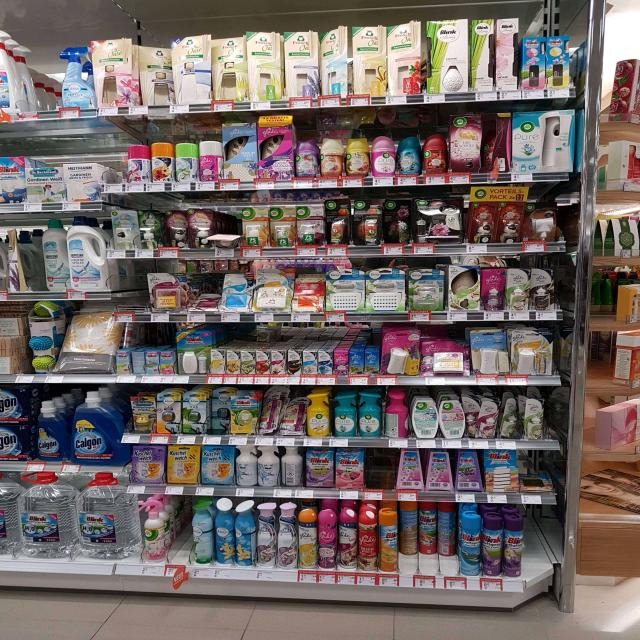unorganised: (398, 503, 457, 572), (463, 395, 521, 441), (209, 37, 247, 101), (135, 48, 174, 108), (318, 32, 352, 97), (40, 220, 69, 295), (6, 231, 39, 294), (262, 396, 305, 439), (406, 271, 448, 314), (482, 117, 512, 173), (386, 393, 409, 439), (479, 272, 505, 311), (208, 392, 232, 434), (281, 447, 303, 487), (188, 284, 221, 310)
